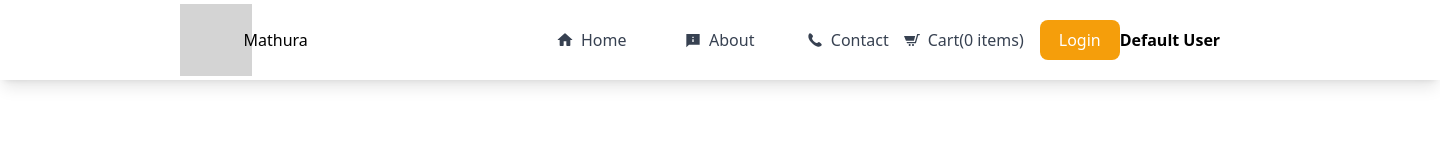
Test: Should change Login to Logout buton in Header component
Click the button "Login": click(1080, 40) [1040, 20, 1120, 60]
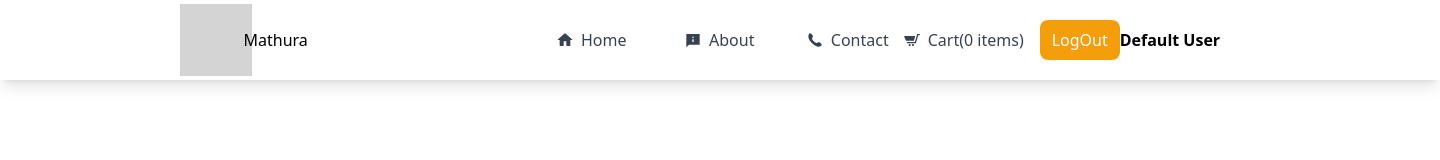
Result: the button "LogOut" is shown at [1040, 20, 1120, 60]
